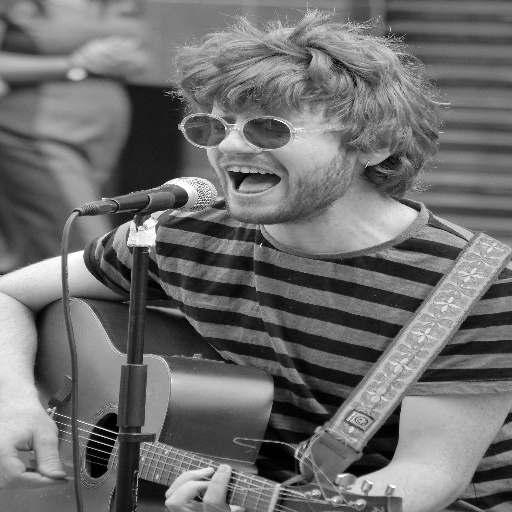hand: (0, 405, 69, 493), (162, 461, 252, 511), (66, 34, 132, 73), (75, 42, 139, 73)
